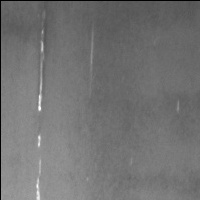scratches: (33, 24, 48, 114)
